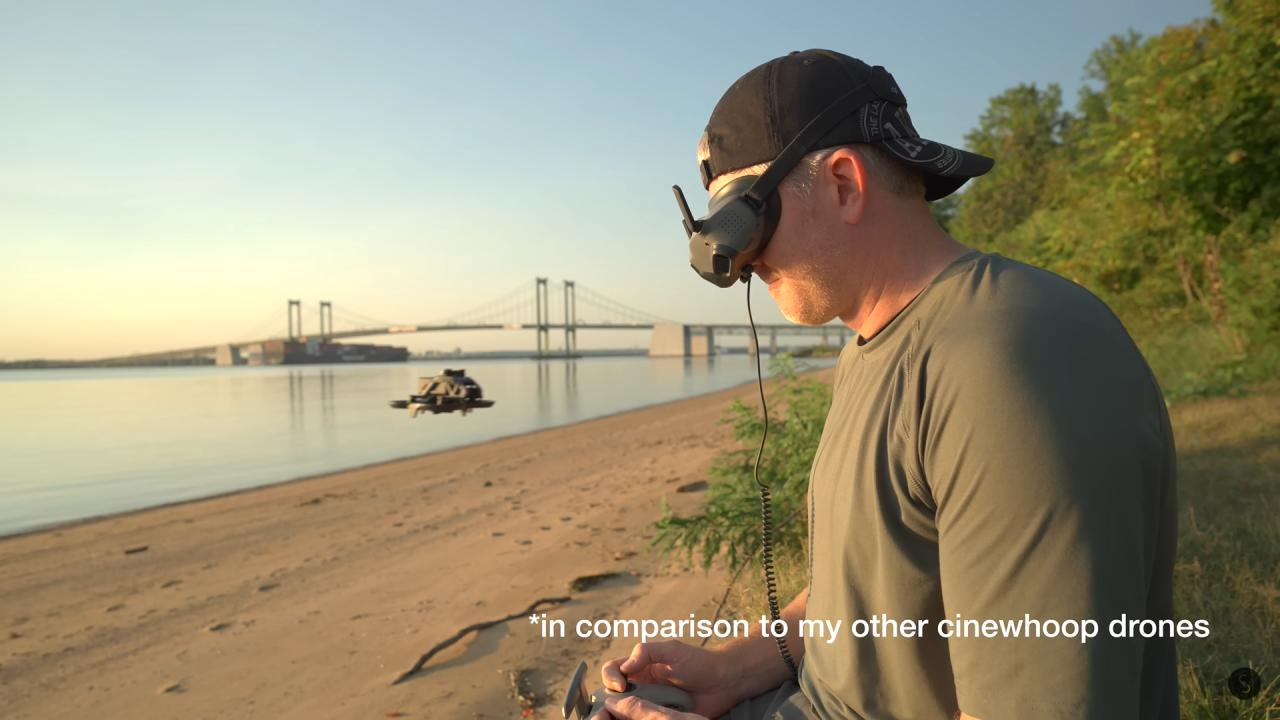Drone: (379, 362, 504, 429)
